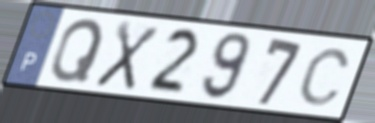2: (145, 26, 203, 98)
7: (256, 34, 305, 107)
9: (200, 31, 253, 102)
C: (296, 46, 354, 107)
Q: (48, 16, 108, 84)
X: (91, 18, 162, 93)
